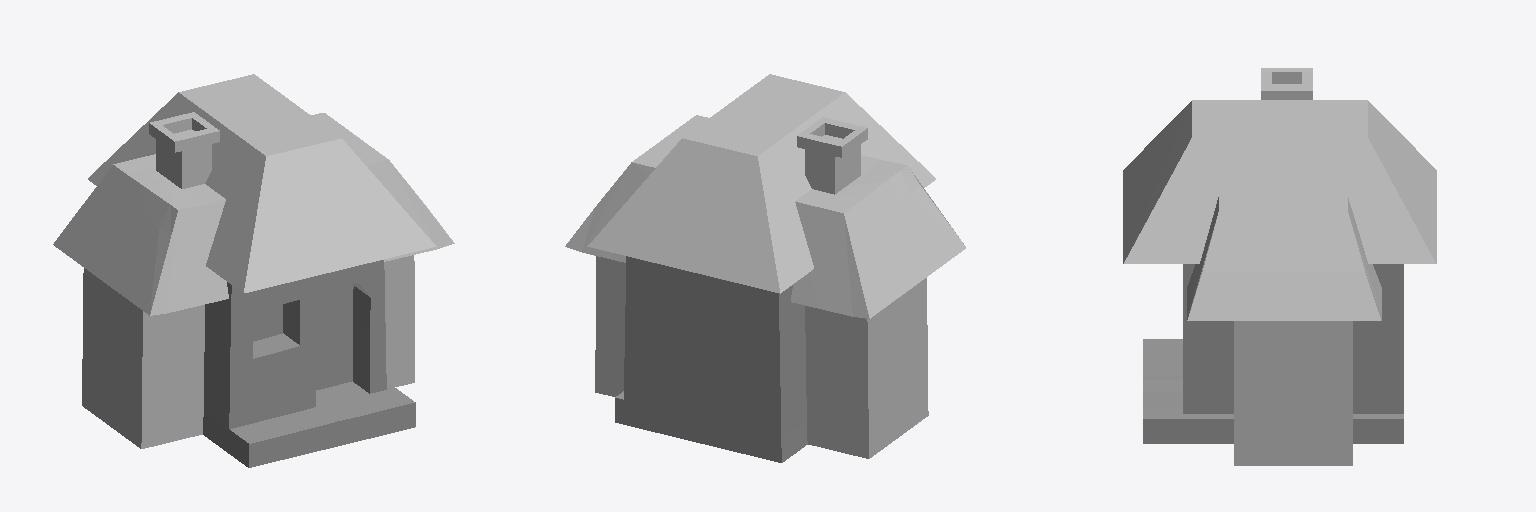
Rendered from casa.obj.
3 views of the same model, side by side, from view 1: azimuth 30°, elevation 25°; view 2: azimuth 150°, elevation 25°; view 3: azimuth 270°, elevation 25° (orthographic).
Visible parts, largest first — view 1: Cubo.001, Cubo, Cube; view 2: Cubo.001, Cubo, Cube; view 3: Cubo.001, Cubo, Cube.
Boxes of the visible parts, <box> form: Cubo.001: <box>53,112,454,448</box>; Cubo: <box>88,74,436,293</box>; Cube: <box>203,260,415,467</box>; Cubo.001: <box>565,115,965,458</box>; Cubo: <box>587,74,935,293</box>; Cube: <box>615,256,807,462</box>; Cubo.001: <box>1187,68,1381,465</box>; Cubo: <box>1123,100,1436,263</box>; Cube: <box>1143,264,1403,443</box>.
Bounding box in the file's own units: 5.92 × 5.32 × 5.27.